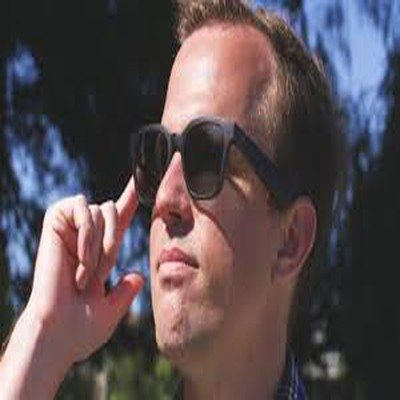eywear: (130, 125, 308, 220)
